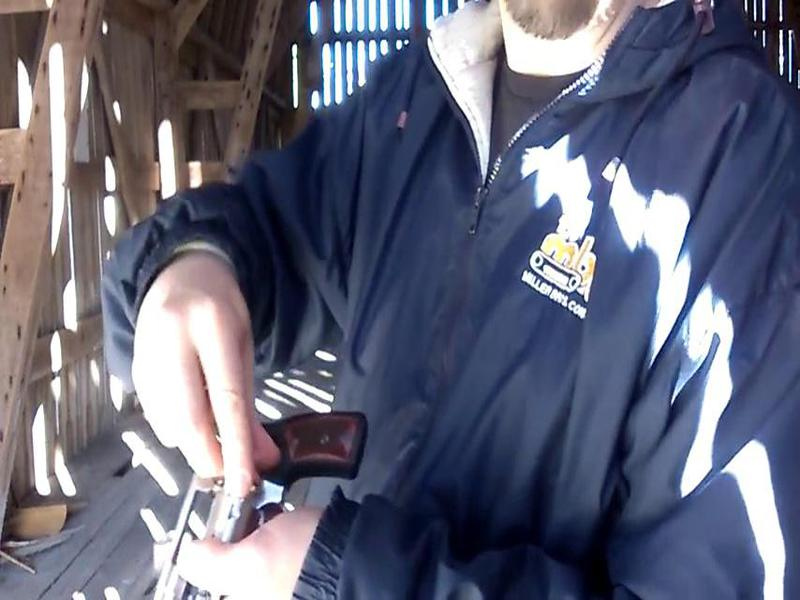Revolver: (144, 391, 364, 600)
